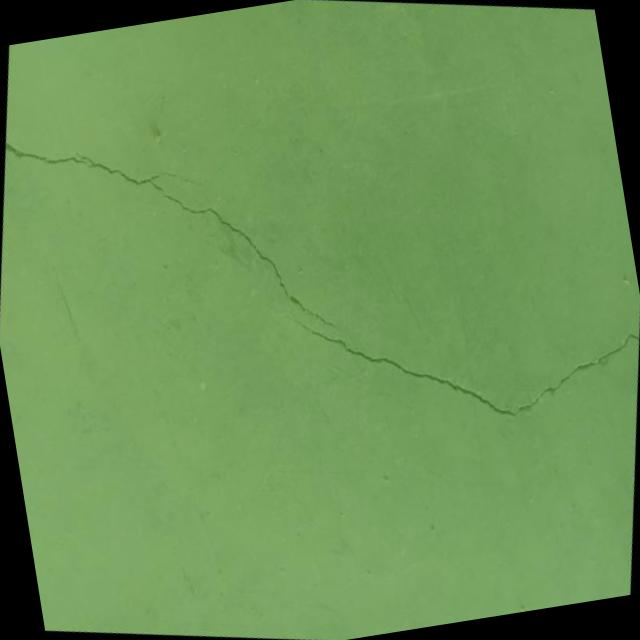crack: (0, 88, 376, 383), (261, 256, 640, 477)
